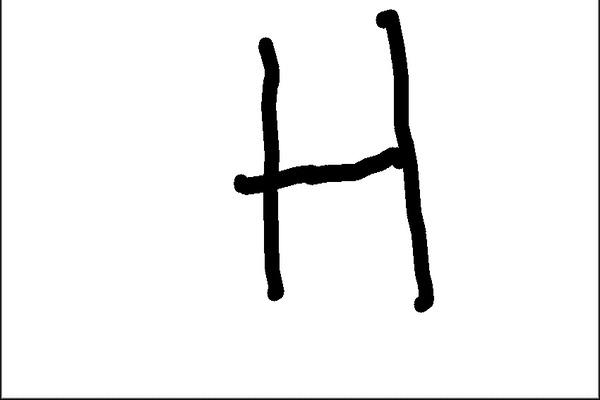H: (228, 4, 441, 313)
